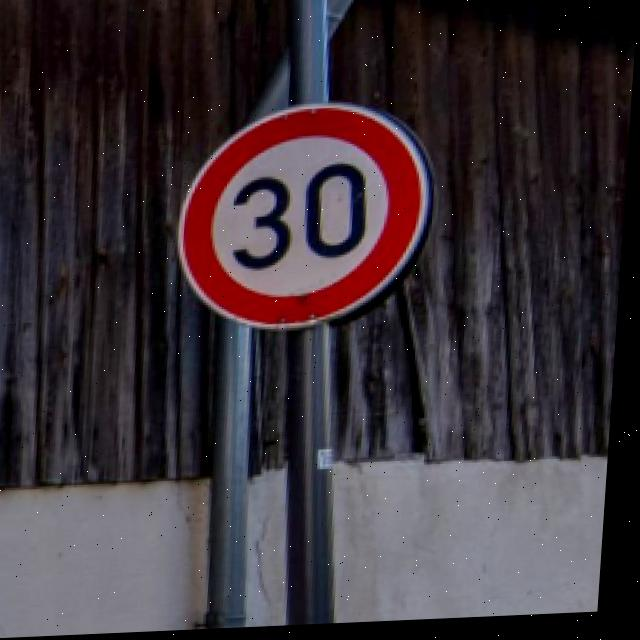Speed limit 30: (172, 99, 446, 339)
